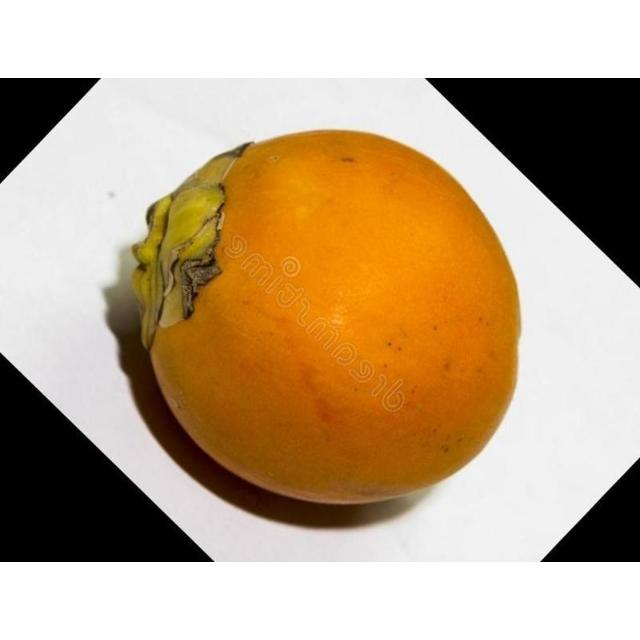good: (130, 130, 522, 508)
